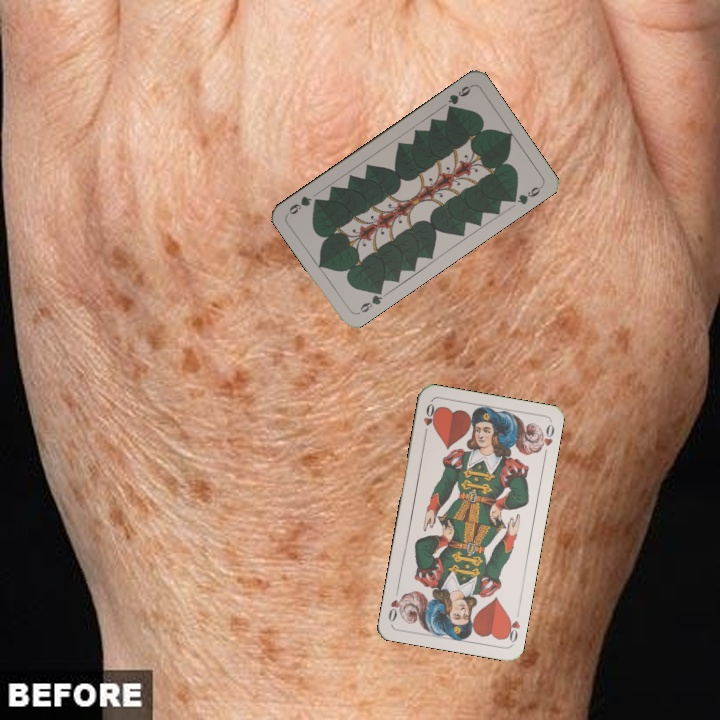G9: (443, 81, 475, 114), (353, 284, 385, 317)
HO: (501, 605, 523, 646), (419, 399, 439, 439)
